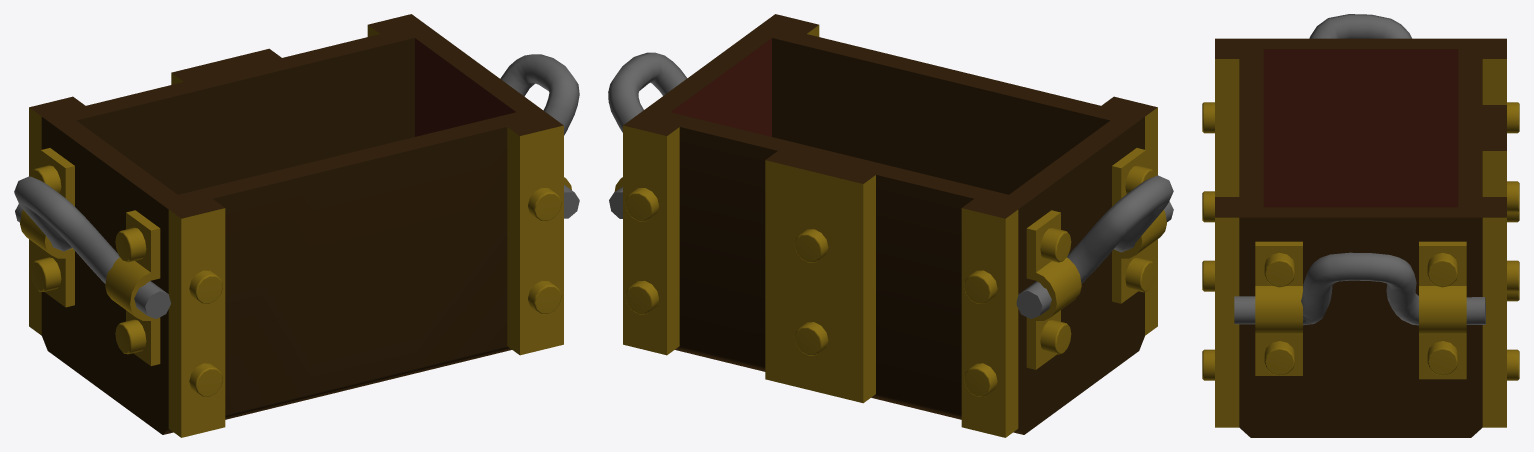
The model's file is chest_soot.fbx.
3 renders of one model, left to right at view 1: azimuth 30°, elevation 25°; view 2: azimuth 150°, elevation 25°; view 3: azimuth 270°, elevation 25°, orthographic. The views are drawn at different scales.
Visible parts, largest first — view 1: chest_soot; view 2: chest_soot; view 3: chest_soot.
Part boxes in pixels (box(x1,y1,x2,y2)): chest_soot: box(14, 14, 579, 437); chest_soot: box(608, 14, 1173, 437); chest_soot: box(1202, 14, 1519, 437).
Bounding box in the file's own units: 149 × 61 × 79.55.
